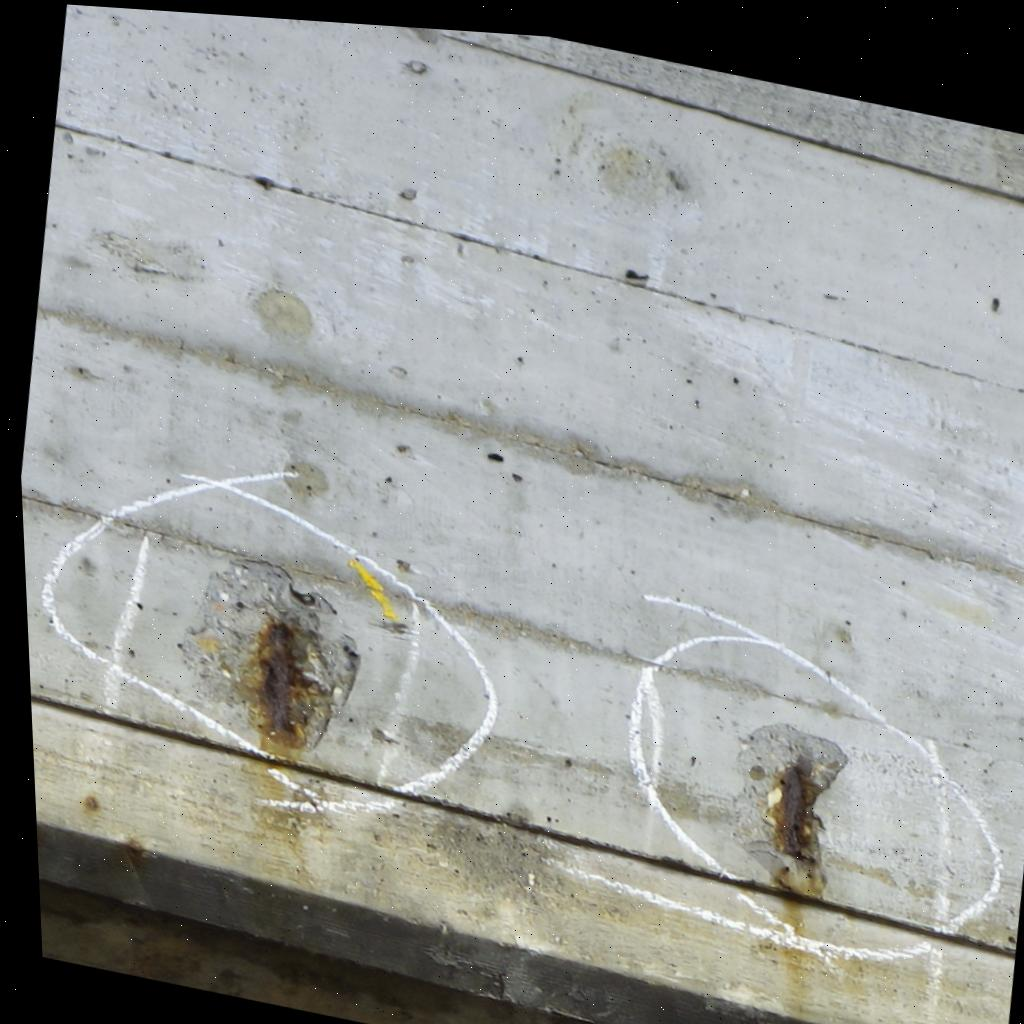exposed_rebar: (251, 618, 323, 750), (772, 760, 824, 862)
spalling: (183, 561, 359, 753), (738, 723, 848, 896)
